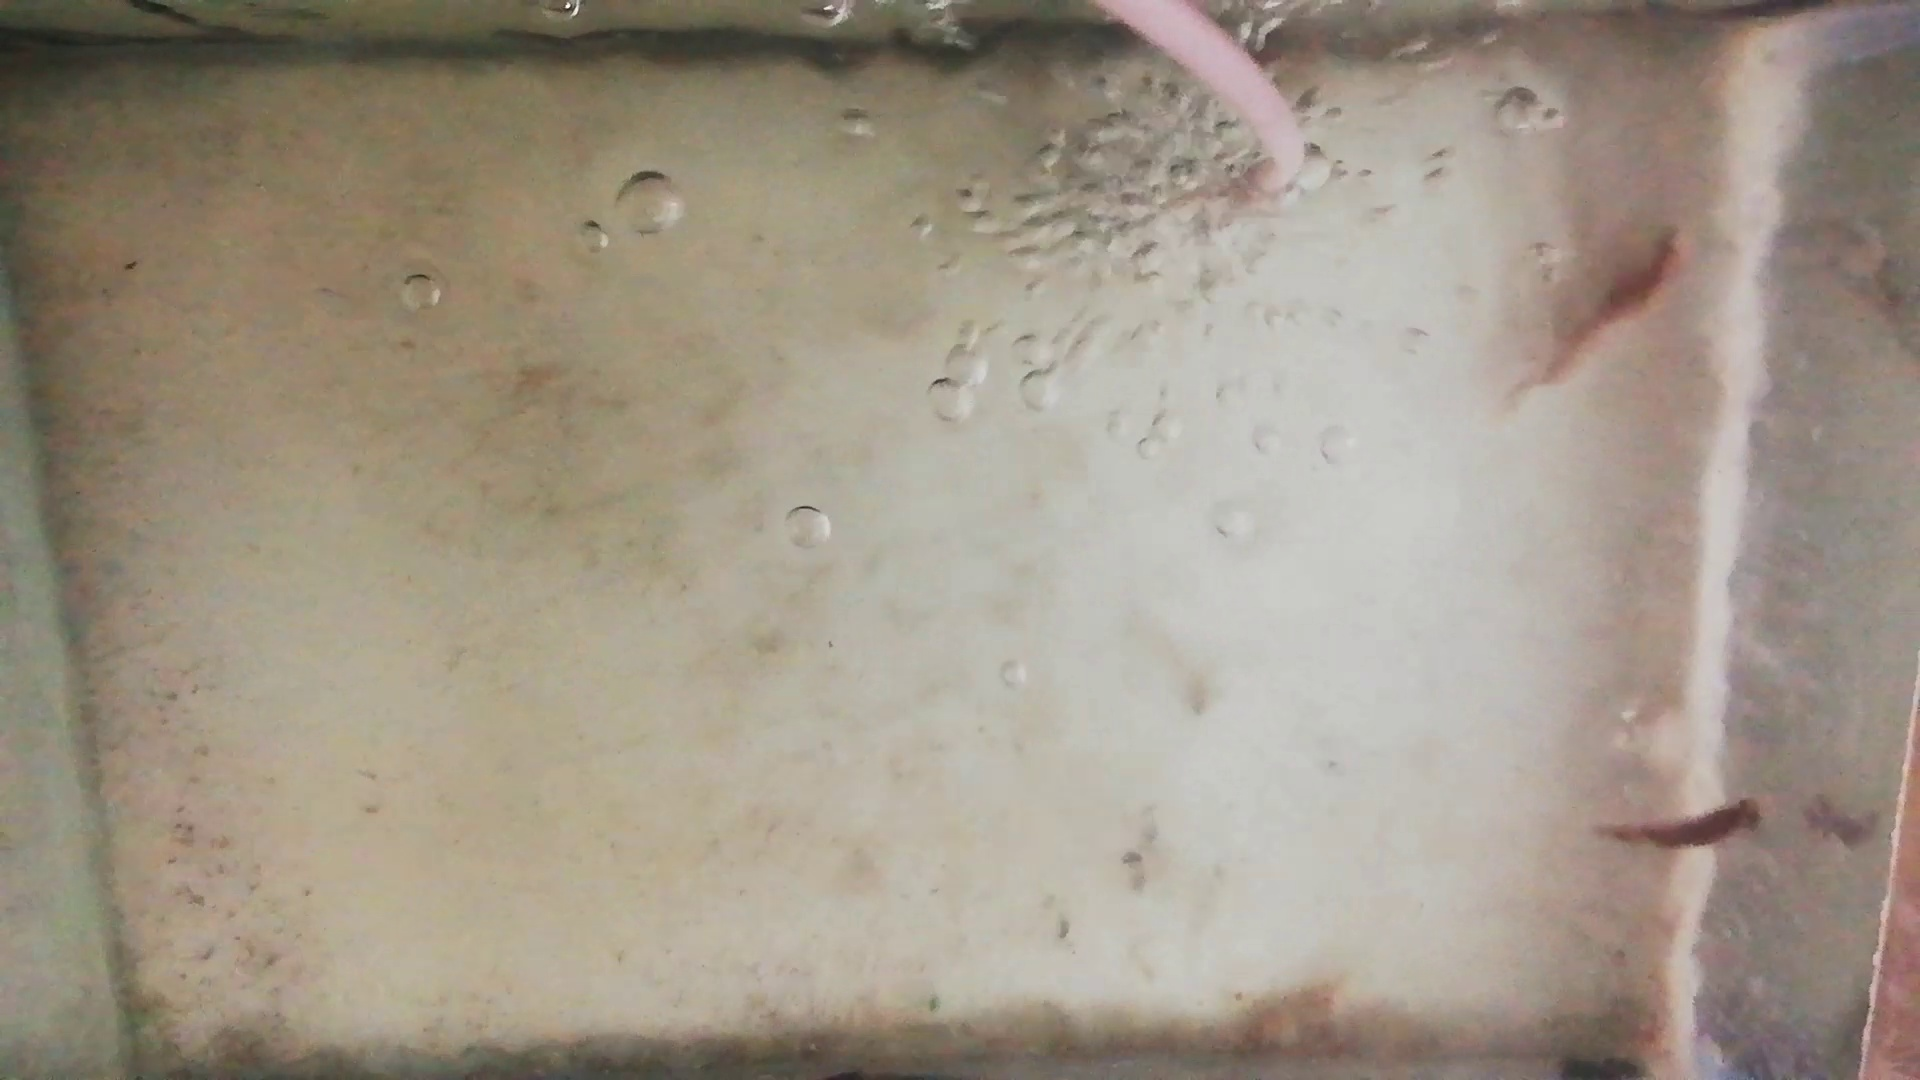fish: (1527, 227, 1691, 388), (1596, 795, 1767, 848)
